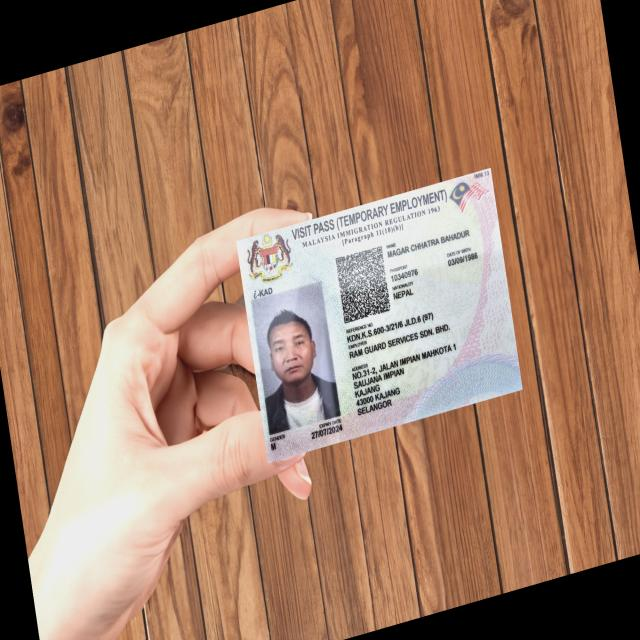ikad-temp: (235, 166, 523, 464)
